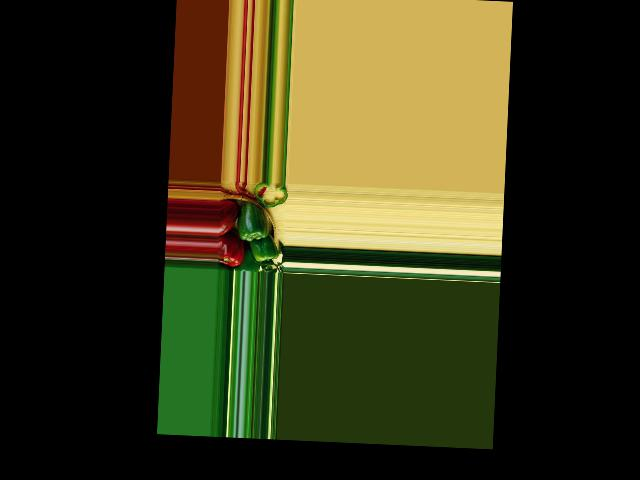bell_pepper: (219, 199, 237, 237)
